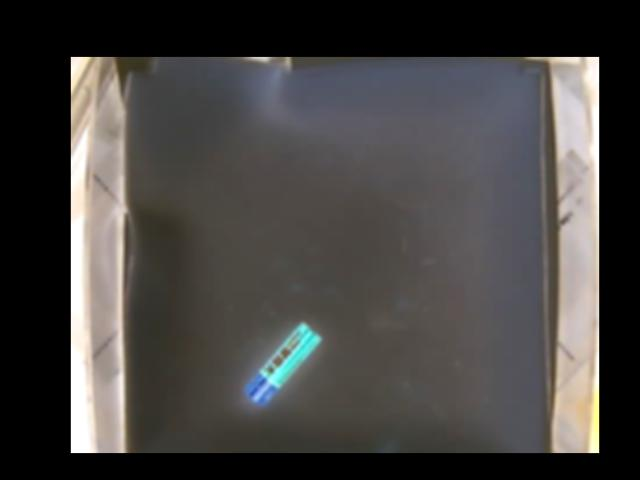Battery: (246, 322, 325, 404)
